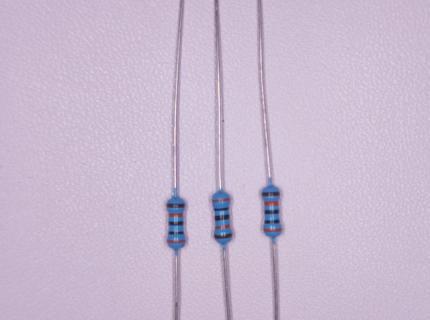Black band: (214, 214, 230, 222), (214, 206, 230, 212), (264, 219, 280, 225), (264, 209, 280, 215), (168, 221, 184, 226), (168, 231, 184, 236)
Brown band: (214, 233, 233, 240), (261, 191, 280, 197), (166, 203, 185, 208)
Orange band: (215, 224, 231, 230), (212, 198, 231, 203), (166, 239, 185, 244), (264, 201, 279, 207), (168, 213, 184, 218), (263, 228, 282, 232)
